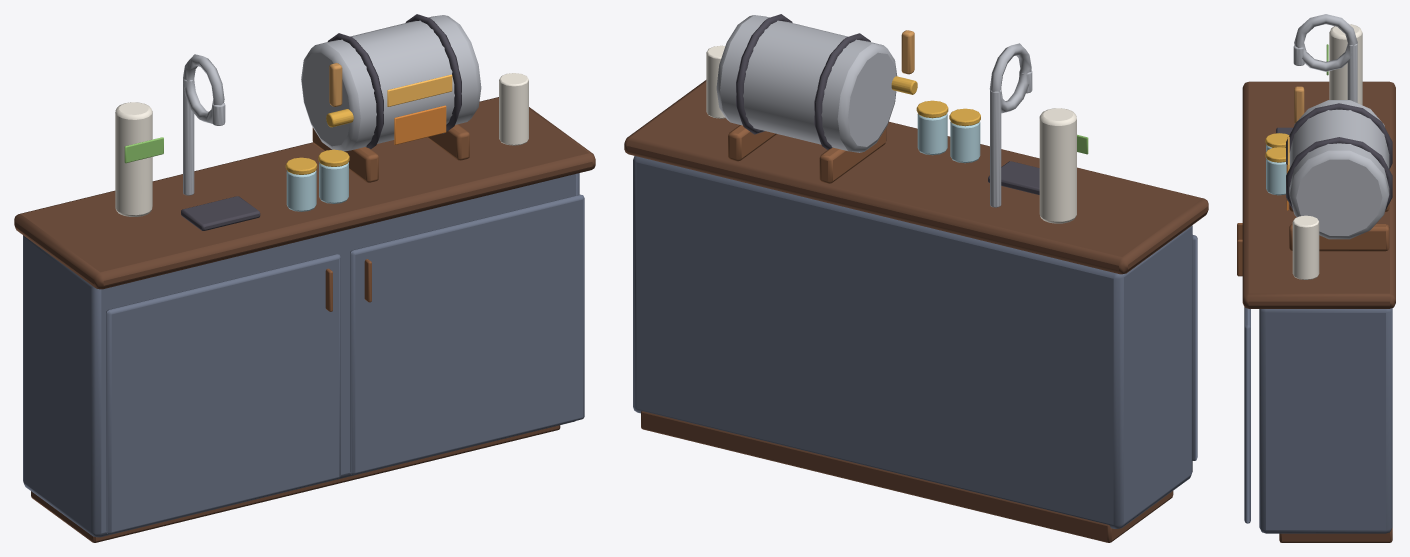
The model's file is water_cooler_web2.glb.
3 renders of one model, left to right at view 1: azimuth 30°, elevation 25°; view 2: azimuth 150°, elevation 25°; view 3: azimuth 270°, elevation 25°, orthographic. The views are drawn at different scales.
Visible parts, largest first — view 1: water_cooler_web2; view 2: water_cooler_web2; view 3: water_cooler_web2.
Part boxes in pixels (box(x1,y1,x2,y2)): water_cooler_web2: box(14, 14, 595, 542); water_cooler_web2: box(624, 14, 1208, 542); water_cooler_web2: box(1237, 14, 1395, 542).
Bounding box in the file's own units: 1.54 × 1.28 × 0.477.
